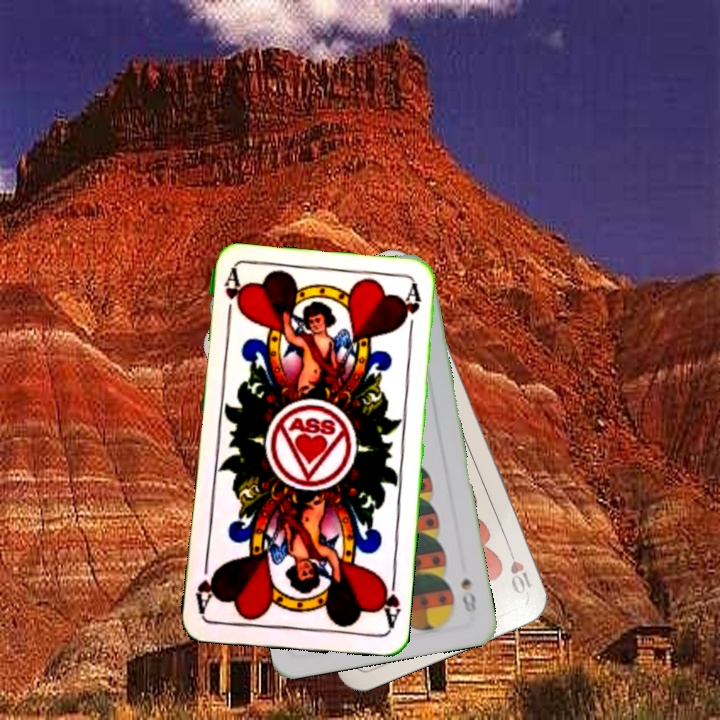H10: (503, 540, 534, 597)
HA: (375, 572, 403, 632), (219, 267, 244, 326)
S8: (457, 573, 479, 615)
